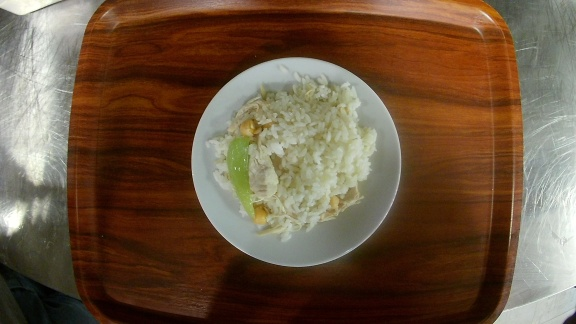nohutlupilav: (191, 57, 404, 268)
